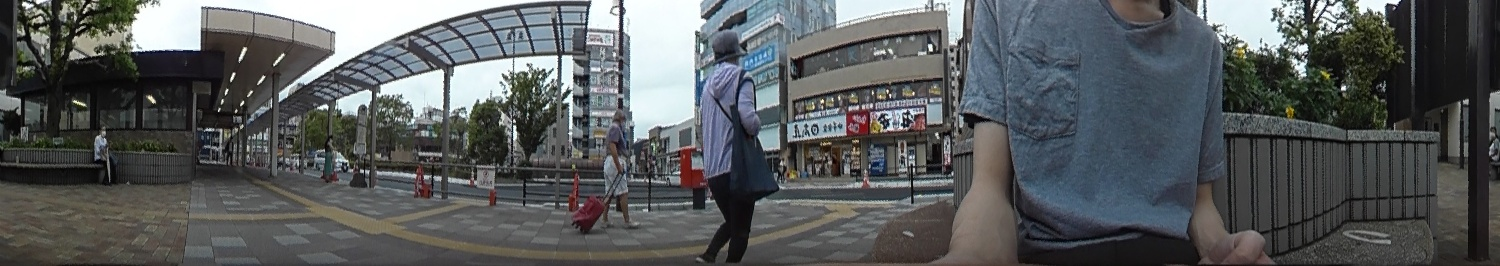difficult_person: (321, 131, 335, 181), (1485, 124, 1500, 159), (224, 134, 235, 166)
person: (696, 28, 759, 266), (603, 106, 637, 229), (92, 123, 115, 186)
